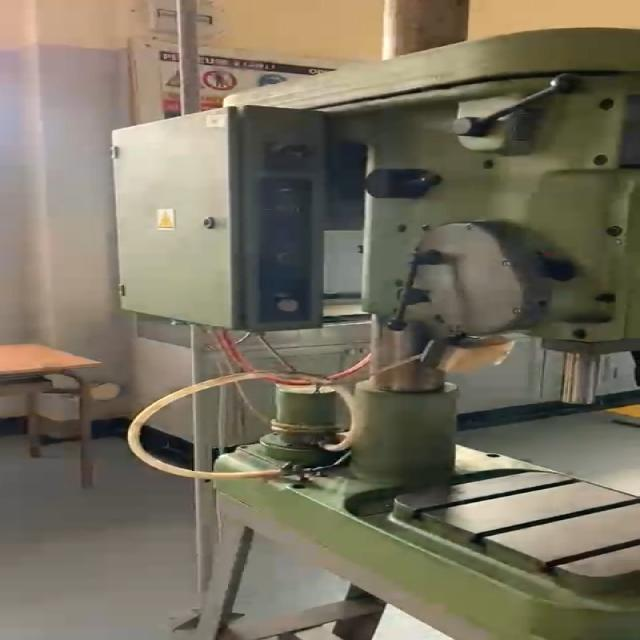perceuse: (112, 29, 640, 640)
